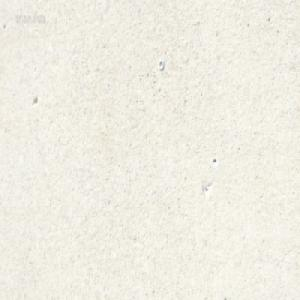Washer: (158, 60, 164, 70)
